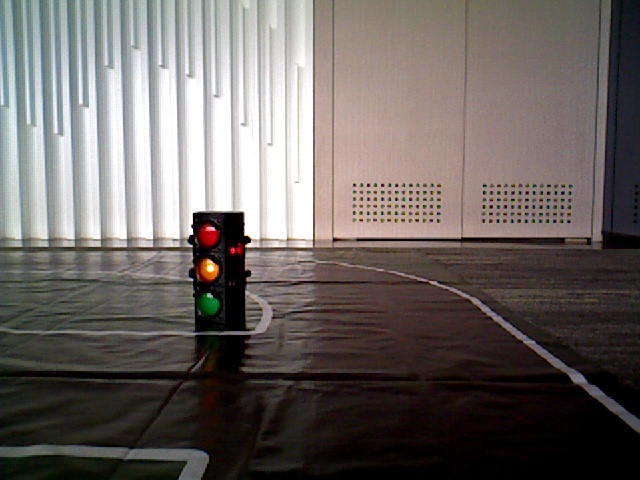yellow: (192, 217, 226, 318)
